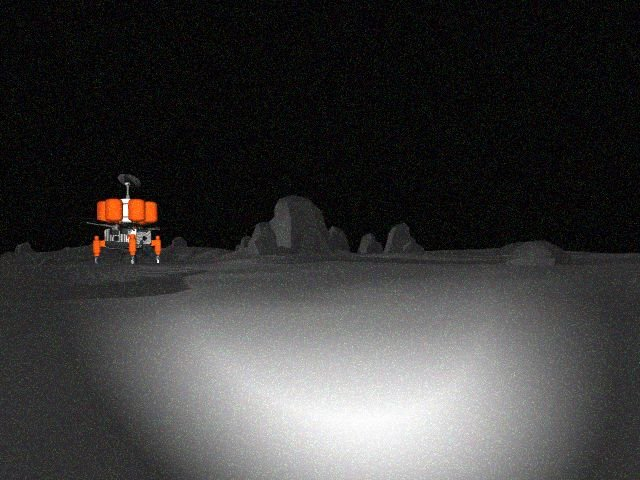homebase: (65, 171, 171, 268)
